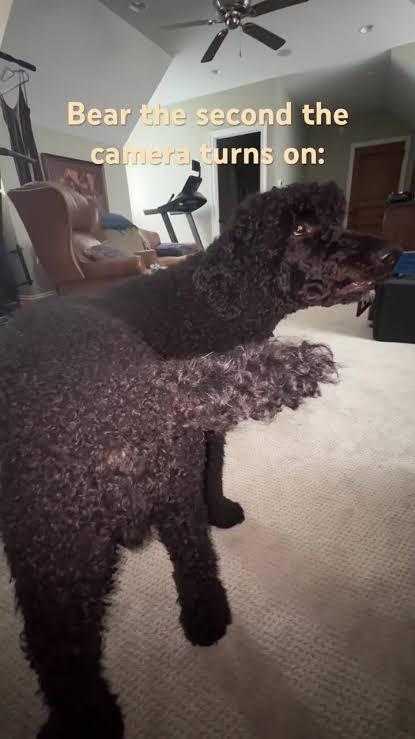adult_dog: (0, 176, 402, 739)
